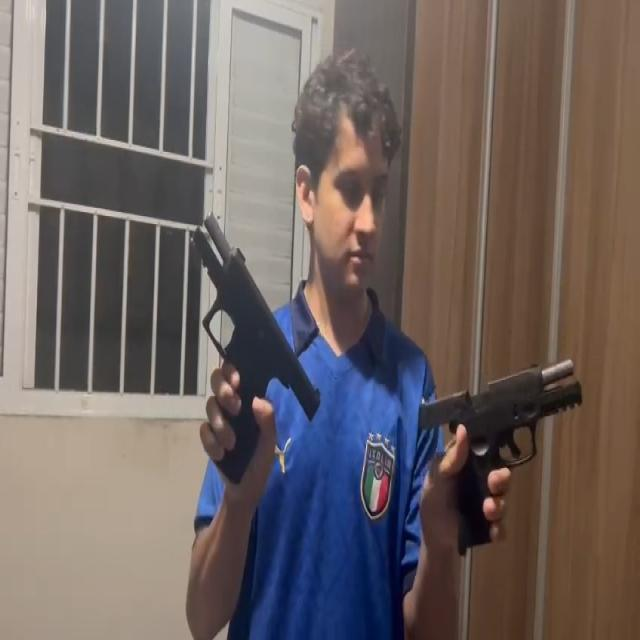gun: (192, 207, 324, 482), (419, 355, 585, 560)
